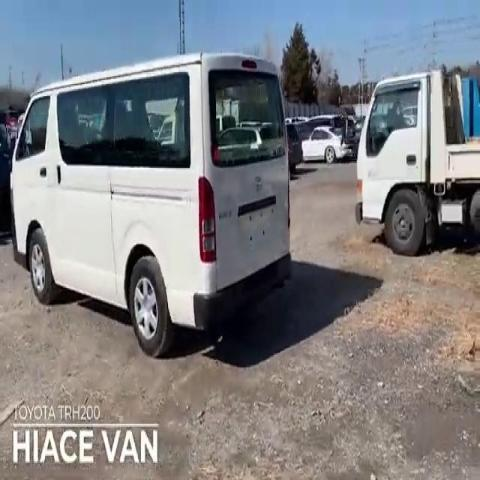truck: (348, 65, 480, 251)
van: (16, 55, 292, 352)
